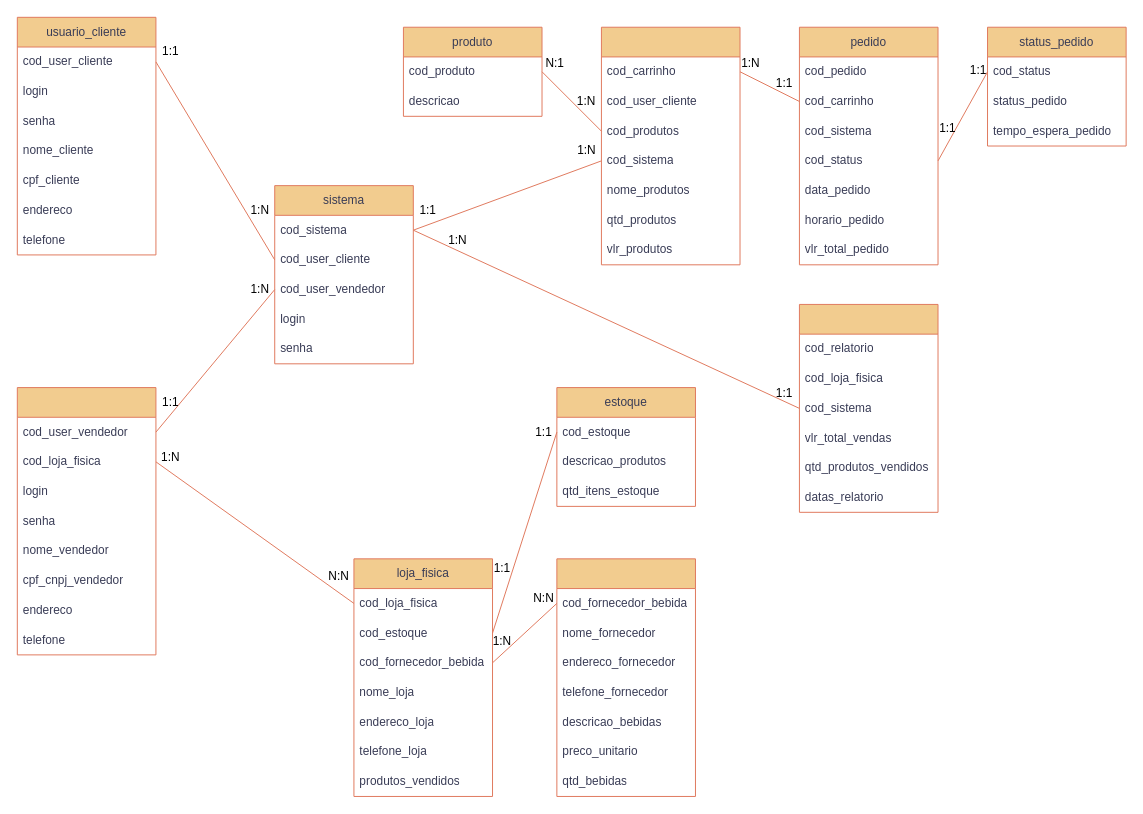
Some shapes in this 1143 by 814 pixel diagram are drawn without their labels. The shapes that lost their labels are listed below. From the top down, each one's box as (x1, y1, x2, y2) in pixels, then its label:
(600, 26, 740, 265): compra_carrinho
(798, 303, 938, 512): relatorio_de_vendas
(16, 387, 156, 655): usuario_vendedor
(556, 558, 695, 796): fornecedor_de_bebidas
